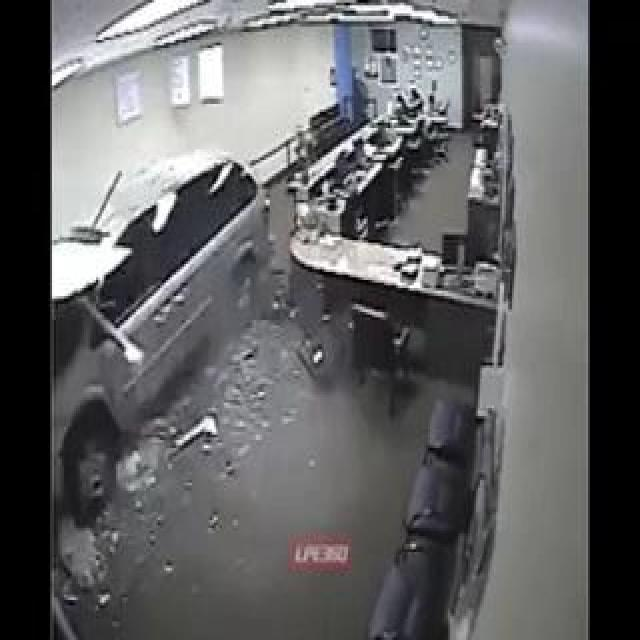burglary: (58, 178, 274, 502)
